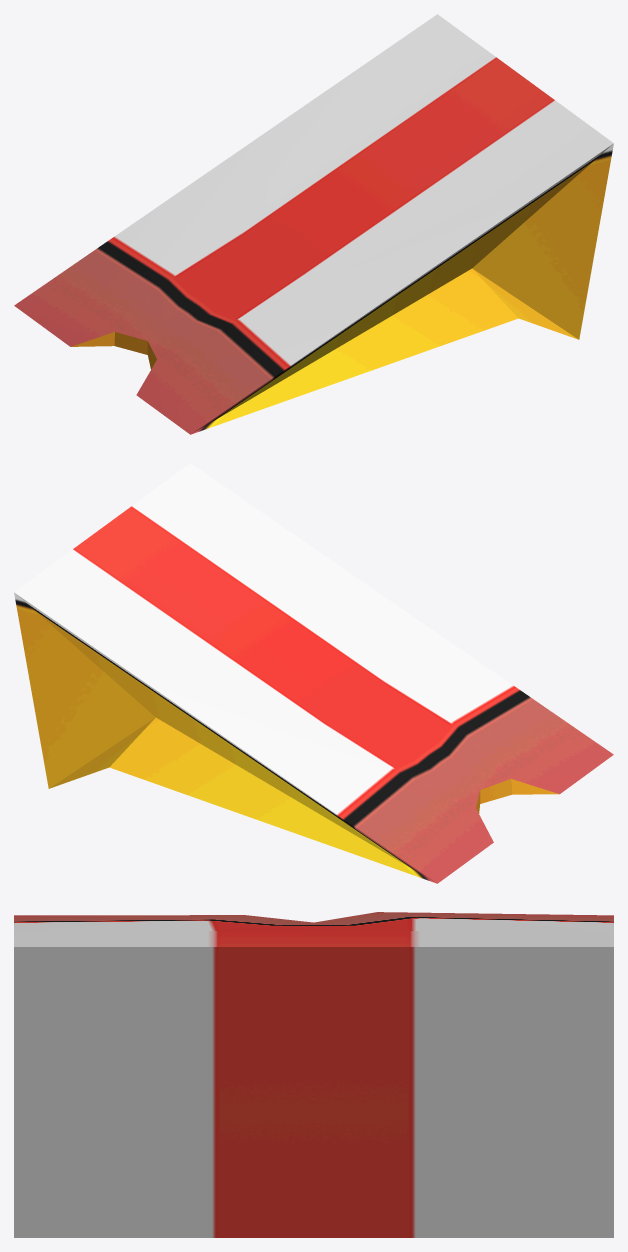
Rendered from PaperBagJump.obj.
3 views of the same model, one above another, from view 1: azimuth 30°, elevation 25°; view 2: azimuth 150°, elevation 25°; view 3: azimuth 270°, elevation 25° (orthographic). The views are drawn at different scales.
Visible parts, largest first — view 1: pCube9; view 2: pCube9; view 3: pCube9.
Boxes of the visible parts, x1,y1,x2,y2 form: pCube9: (14, 14, 613, 434); pCube9: (14, 463, 613, 883); pCube9: (14, 912, 613, 1237).
Bounding box in the file's own units: 311 × 132 × 224.
